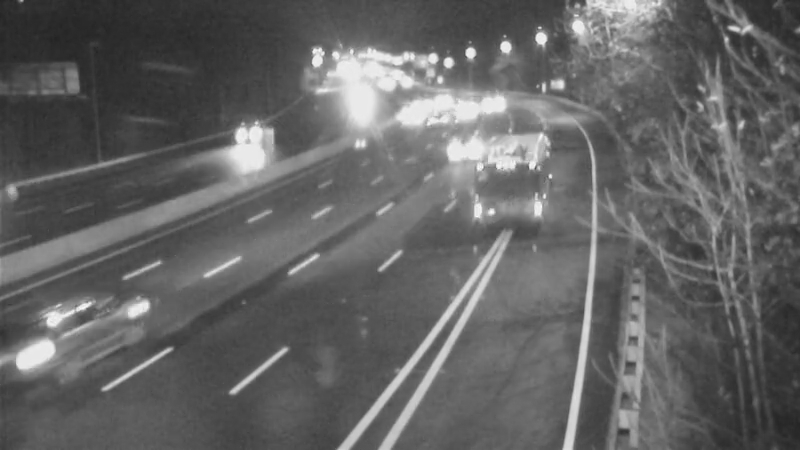vehicle: (1, 302, 100, 412), (474, 134, 554, 214), (464, 80, 514, 130), (399, 80, 449, 130), (442, 85, 492, 135), (386, 94, 436, 144), (413, 91, 463, 141), (448, 122, 498, 172), (232, 113, 282, 163)
